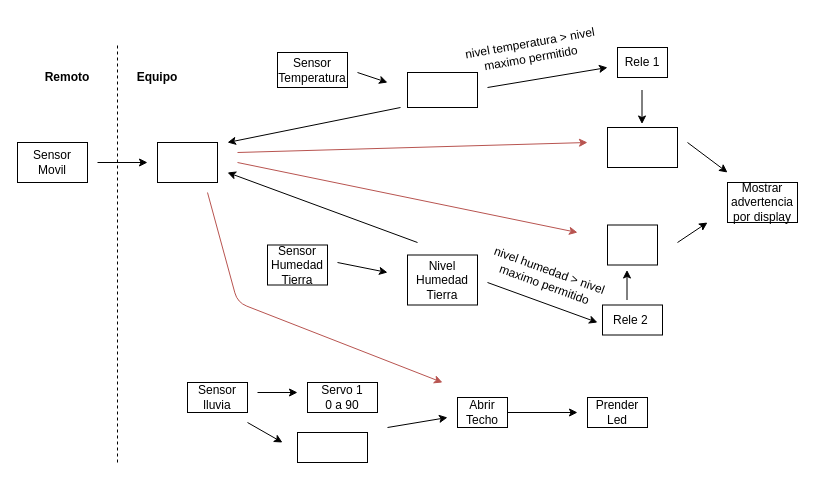
Image size: 815x481. Some labels were removed from this diagram. The shapes that lost their labels are listed below. From the top down, each one's box as (x1, y1, x2, y2) in pixels, then its label:
(406, 72, 478, 108): Nivel Temperatura
(156, 142, 218, 182): Bluetooth
(606, 126, 678, 168): Ventilacion por Cooler
(606, 224, 658, 265): Bomba
(296, 432, 368, 462): Servo 2 0 a 90
